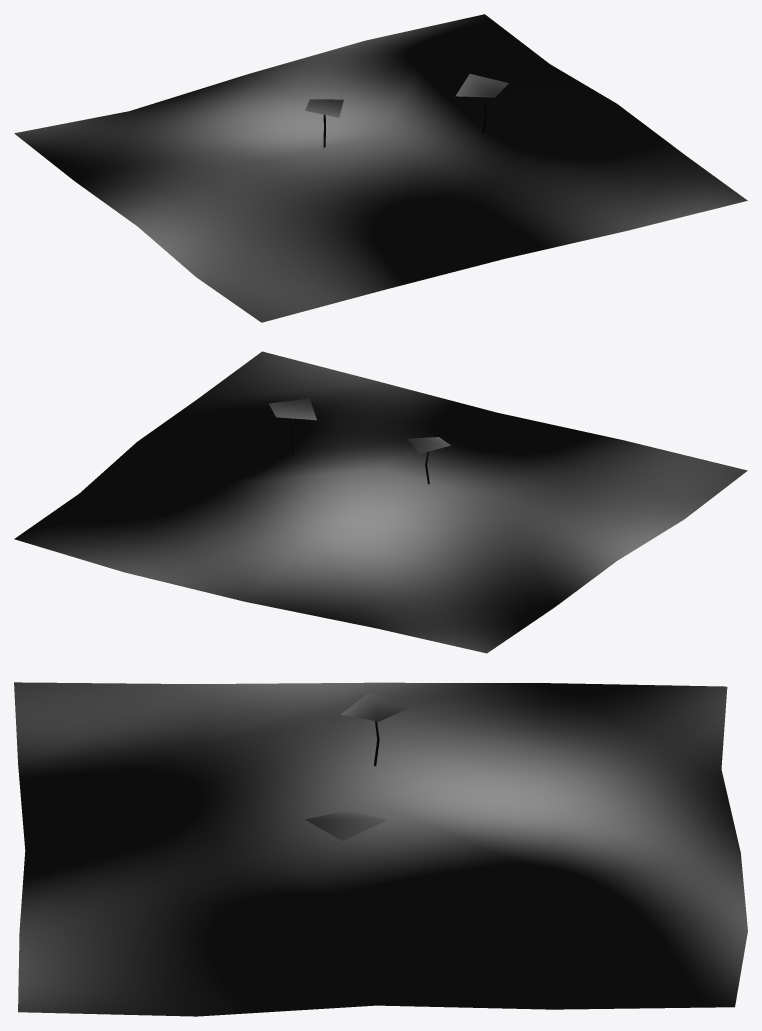
Rendered from SM_Debris_Plane_006.fbx.
3 renders of one model, top to bottom at view 1: azimuth 30°, elevation 25°; view 2: azimuth 150°, elevation 25°; view 3: azimuth 270°, elevation 25°, orthographic. The views are drawn at different scales.
Visible parts, largest first — view 1: SM_Debris_Plane_006; view 2: SM_Debris_Plane_006; view 3: SM_Debris_Plane_006.
Boxes of the visible parts, x1,y1,x2,y2 form: SM_Debris_Plane_006: (14, 14, 747, 322); SM_Debris_Plane_006: (14, 351, 747, 653); SM_Debris_Plane_006: (14, 682, 747, 1016).
Bounding box in the file's own units: 82.23 × 76.27 × 12.83.
1 material, 1 textured.
